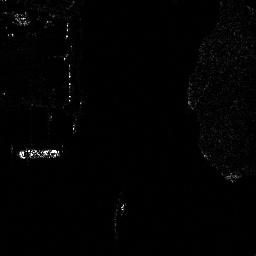ship: (18, 147, 61, 160)
